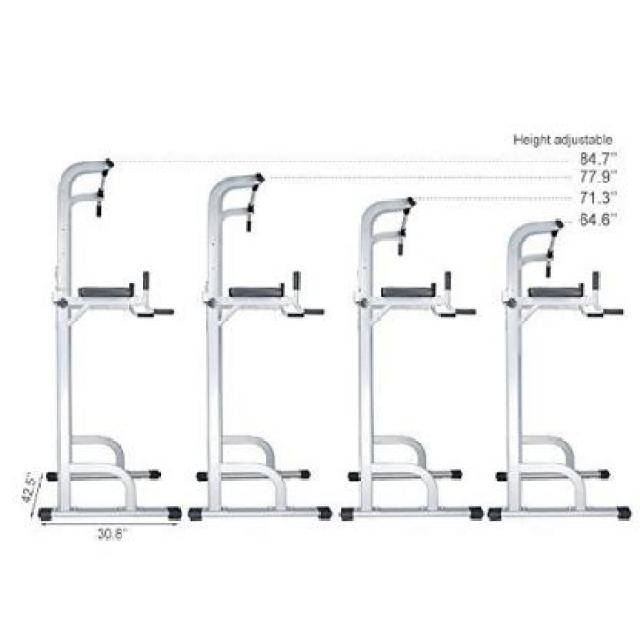chinning dipping: (51, 157, 180, 520)
